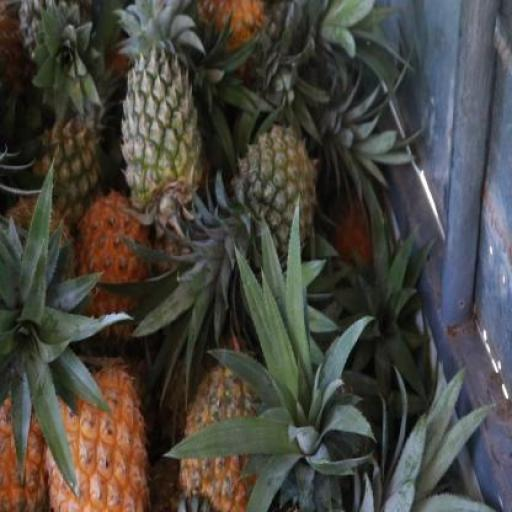Pineapple - v8 v1: (42, 362, 146, 511)
